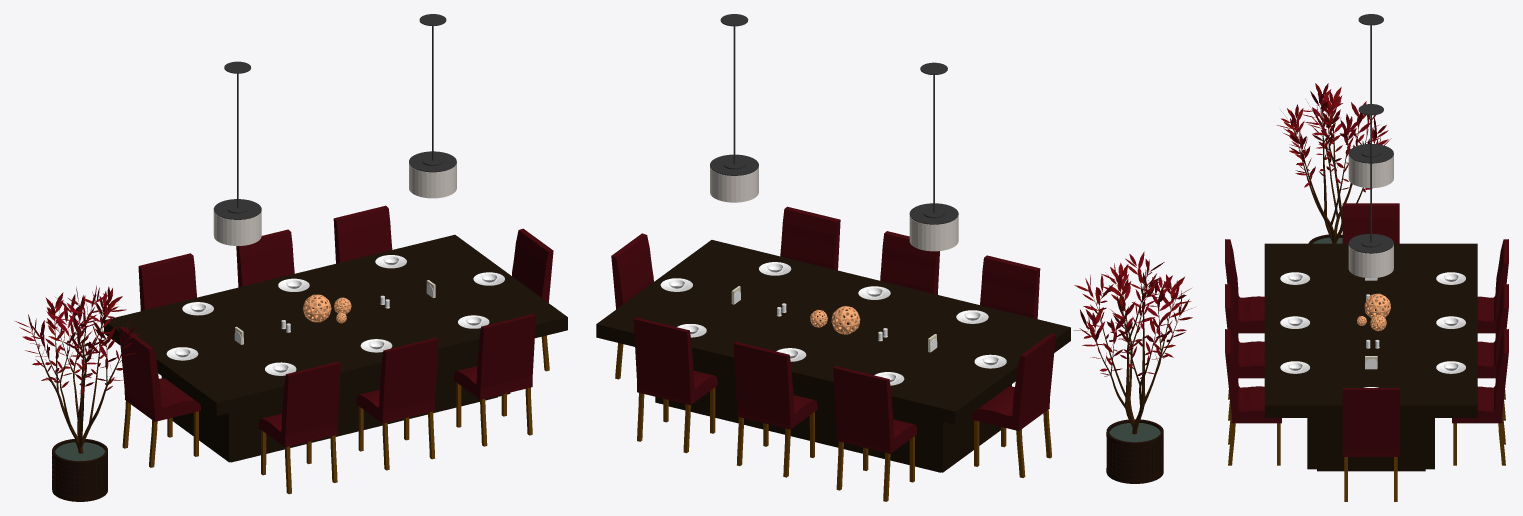
The picture shows the model from 3 angles, left to right: view 1: azimuth 30°, elevation 25°; view 2: azimuth 150°, elevation 25°; view 3: azimuth 270°, elevation 25°; orthographic projection. The views are drawn at different scales.
Parts seen in each view (by area): view 1: RectangleTable, redtree.001, curveBackChair.007, curveBackChair.003, curveBackChair.002, curveBackChair.005, lampLarge, curveBackChair.001, curveBackChair, lampLarge .002, curveBackChair.006, curveBackChair.004 (+1 smaller); view 2: RectangleTable, redtree.001, curveBackChair.001, curveBackChair, curveBackChair.006, curveBackChair.005, curveBackChair.003, curveBackChair.002, lampLarge .002, lampLarge, curveBackChair.007, curveBackChair.004 (+1 smaller); view 3: RectangleTable, redtree.001, curveBackChair.004, curveBackChair.003, lampLarge .002, lampLarge, curveBackChair, curveBackChair.005, curveBackChair.007, curveBackChair.002, curveBackChair.006, curveBackChair.001 (+1 smaller).
Part boxes in pixels (x1,y1,x2,y2): RectangleTable: [104, 234, 567, 462]; redtree.001: [15, 285, 141, 501]; curveBackChair.007: [356, 337, 438, 470]; curveBackChair.003: [453, 314, 535, 446]; curveBackChair.002: [258, 361, 340, 494]; curveBackChair.005: [119, 326, 200, 467]; lampLarge: [213, 61, 261, 245]; curveBackChair.001: [138, 253, 196, 311]; curveBackChair: [333, 205, 392, 263]; lampLarge .002: [409, 14, 456, 198]; curveBackChair.006: [236, 229, 294, 287]; curveBackChair.004: [512, 228, 553, 371]; RectangleTable: [596, 240, 1070, 472]; redtree.001: [1074, 251, 1192, 483]; curveBackChair.001: [833, 366, 917, 501]; curveBackChair: [633, 317, 717, 453]; curveBackChair.006: [733, 341, 817, 477]; curveBackChair.005: [972, 333, 1055, 477]; curveBackChair.003: [780, 206, 840, 270]; curveBackChair.002: [980, 255, 1040, 318]; lampLarge .002: [710, 14, 758, 202]; lampLarge: [909, 62, 958, 251]; curveBackChair.007: [880, 231, 939, 294]; curveBackChair.004: [611, 233, 653, 379]; RectangleTable: [1264, 243, 1477, 471]; redtree.001: [1276, 83, 1391, 243]; curveBackChair.004: [1342, 388, 1399, 501]; curveBackChair.003: [1225, 329, 1281, 465]; lampLarge .002: [1348, 104, 1393, 278]; lampLarge: [1348, 14, 1393, 188]; curveBackChair: [1452, 329, 1508, 465]; curveBackChair.005: [1342, 203, 1399, 243]; curveBackChair.007: [1225, 284, 1264, 420]; curveBackChair.002: [1225, 239, 1264, 333]; curveBackChair.006: [1477, 284, 1508, 420]; curveBackChair.001: [1477, 239, 1508, 333].
Size of the model in its own units: 382 by 251 by 187.
